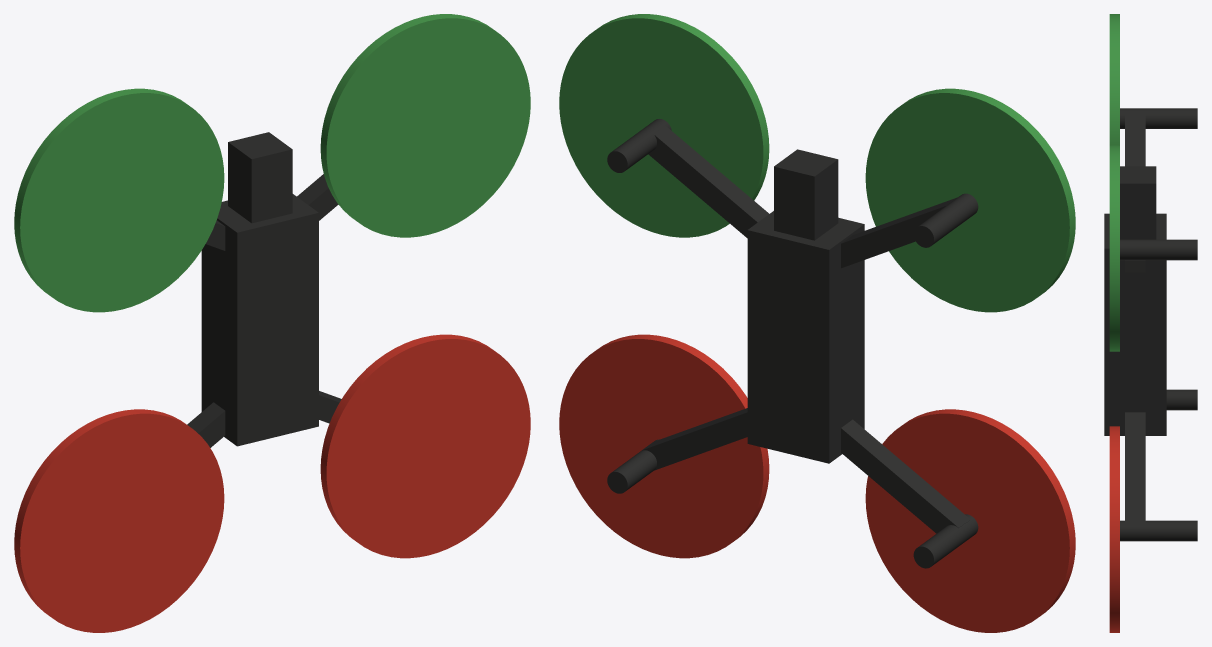
The model's file is abejorro.fbx.
3 renders of one model, left to right at view 1: azimuth 30°, elevation 25°; view 2: azimuth 150°, elevation 25°; view 3: azimuth 270°, elevation 25°, orthographic. The views are drawn at different scales.
Visible parts, largest first — view 1: rotorNW, rotorSE, rotorNE, rotorSW, fuselaje, camara, brazoSW, brazoNE; view 2: rotorNW, rotorSE, rotorSW, rotorNE, fuselaje, camara, brazoSW, brazoNE, brazoSE, brazoNW, motorNW, motorSW (+2 smaller); view 3: fuselaje, camara, brazoSE, rotorNE, rotorSE, motorNE, motorSE, rotorNW, motorNW, brazoNW, motorSW, brazoNE.
Part boxes in pixels (x1=…): rotorNW: x1=14, y1=88, x2=224, y2=312; rotorSE: x1=320, y1=334, x2=530, y2=558; rotorNE: x1=320, y1=14, x2=530, y2=237; rotorSW: x1=14, y1=409, x2=224, y2=632; fuselaje: x1=201, y1=194, x2=318, y2=446; camara: x1=228, y1=132, x2=292, y2=223; brazoSW: x1=187, y1=402, x2=225, y2=447; brazoNE: x1=297, y1=174, x2=338, y2=220; rotorNW: x1=865, y1=88, x2=1075, y2=312; rotorSE: x1=559, y1=334, x2=769, y2=558; rotorSW: x1=865, y1=409, x2=1075, y2=632; rotorNE: x1=559, y1=14, x2=769, y2=237; fuselaje: x1=747, y1=211, x2=864, y2=463; camara: x1=774, y1=149, x2=838, y2=240; brazoSW: x1=841, y1=419, x2=970, y2=533; brazoNE: x1=648, y1=126, x2=768, y2=238; brazoSE: x1=641, y1=408, x2=747, y2=470; brazoNW: x1=841, y1=197, x2=963, y2=268; motorNW: x1=913, y1=193, x2=978, y2=247; motorSW: x1=913, y1=514, x2=978, y2=568; fuselaje: x1=1104, y1=213, x2=1166, y2=435; camara: x1=1120, y1=166, x2=1156, y2=239; brazoSE: x1=1125, y1=412, x2=1145, y2=525; rotorNE: x1=1109, y1=145, x2=1119, y2=351; rotorSE: x1=1109, y1=426, x2=1119, y2=632; motorNE: x1=1120, y1=239, x2=1197, y2=260; motorSE: x1=1120, y1=520, x2=1197, y2=541; rotorNW: x1=1109, y1=14, x2=1119, y2=144; motorNW: x1=1120, y1=108, x2=1197, y2=128; brazoNW: x1=1125, y1=114, x2=1145, y2=166; motorSW: x1=1166, y1=389, x2=1197, y2=410; brazoNE: x1=1125, y1=260, x2=1145, y2=272.
Size of the model in its own units: 250 by 250 by 45.
